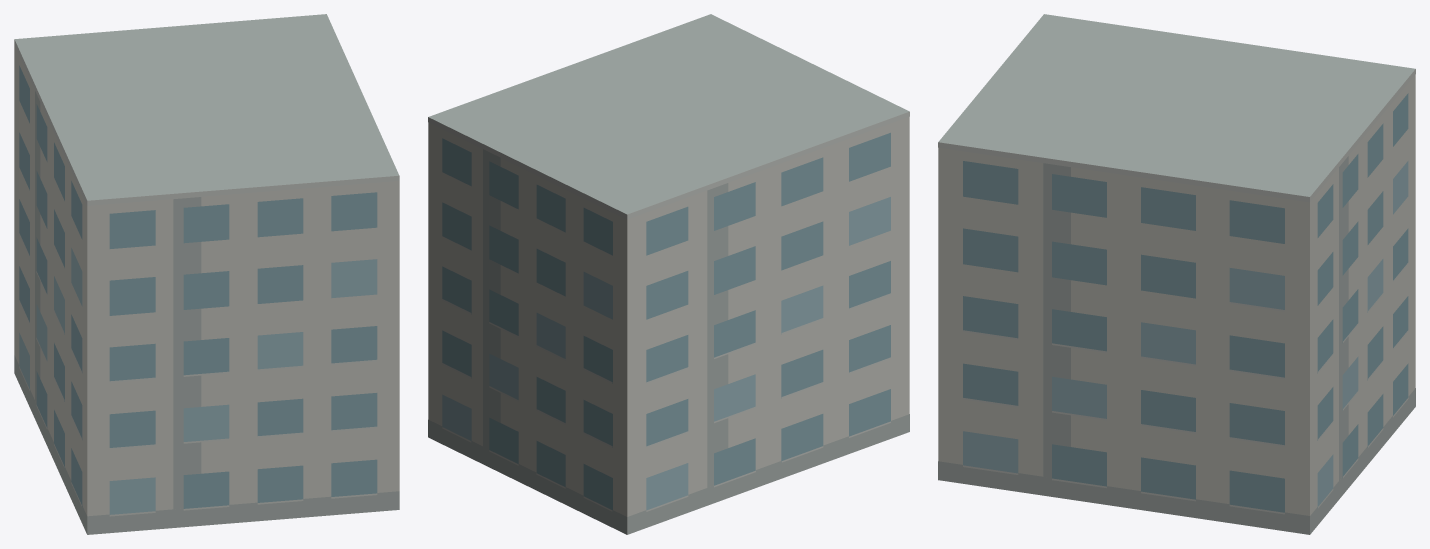
The model's file is residential-8aea406b-5719-4104-9b5f-651478582660.glb.
3 views of the same model, side by side, from view 1: azimuth 30°, elevation 25°; view 2: azimuth 150°, elevation 25°; view 3: azimuth 270°, elevation 25° (orthographic). The views are drawn at different scales.
Parts seen in each view (by area): view 1: residential-8aea406b-5719-4104-9b5f-651478582660.tmp; view 2: residential-8aea406b-5719-4104-9b5f-651478582660.tmp; view 3: residential-8aea406b-5719-4104-9b5f-651478582660.tmp.
Part boxes in pixels (x1,y1,x2,y2): residential-8aea406b-5719-4104-9b5f-651478582660.tmp: (14,14,399,534); residential-8aea406b-5719-4104-9b5f-651478582660.tmp: (428,14,909,534); residential-8aea406b-5719-4104-9b5f-651478582660.tmp: (938,14,1415,534).
Size of the model in its own units: 17.73 by 15.25 by 19.55.
